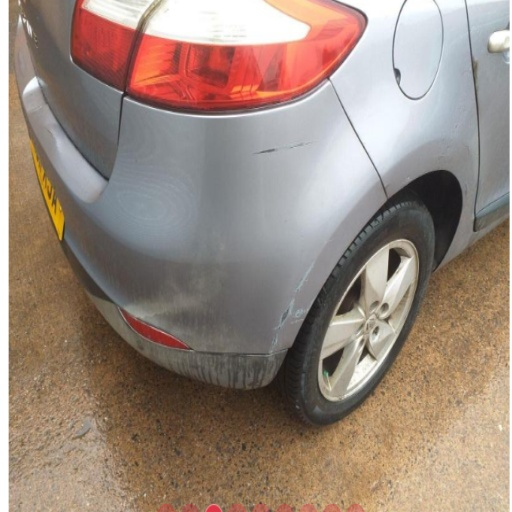dent: (43, 123, 66, 152)
rust: (472, 51, 479, 93)
scratch: (251, 138, 318, 157), (46, 126, 58, 149), (324, 238, 335, 245)
